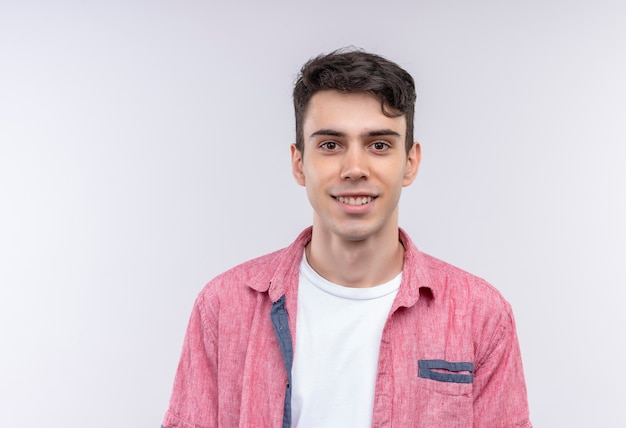teen: (270, 51, 426, 249)
